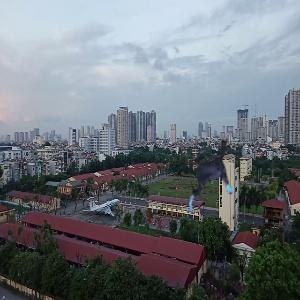drone: (174, 143, 249, 218)
